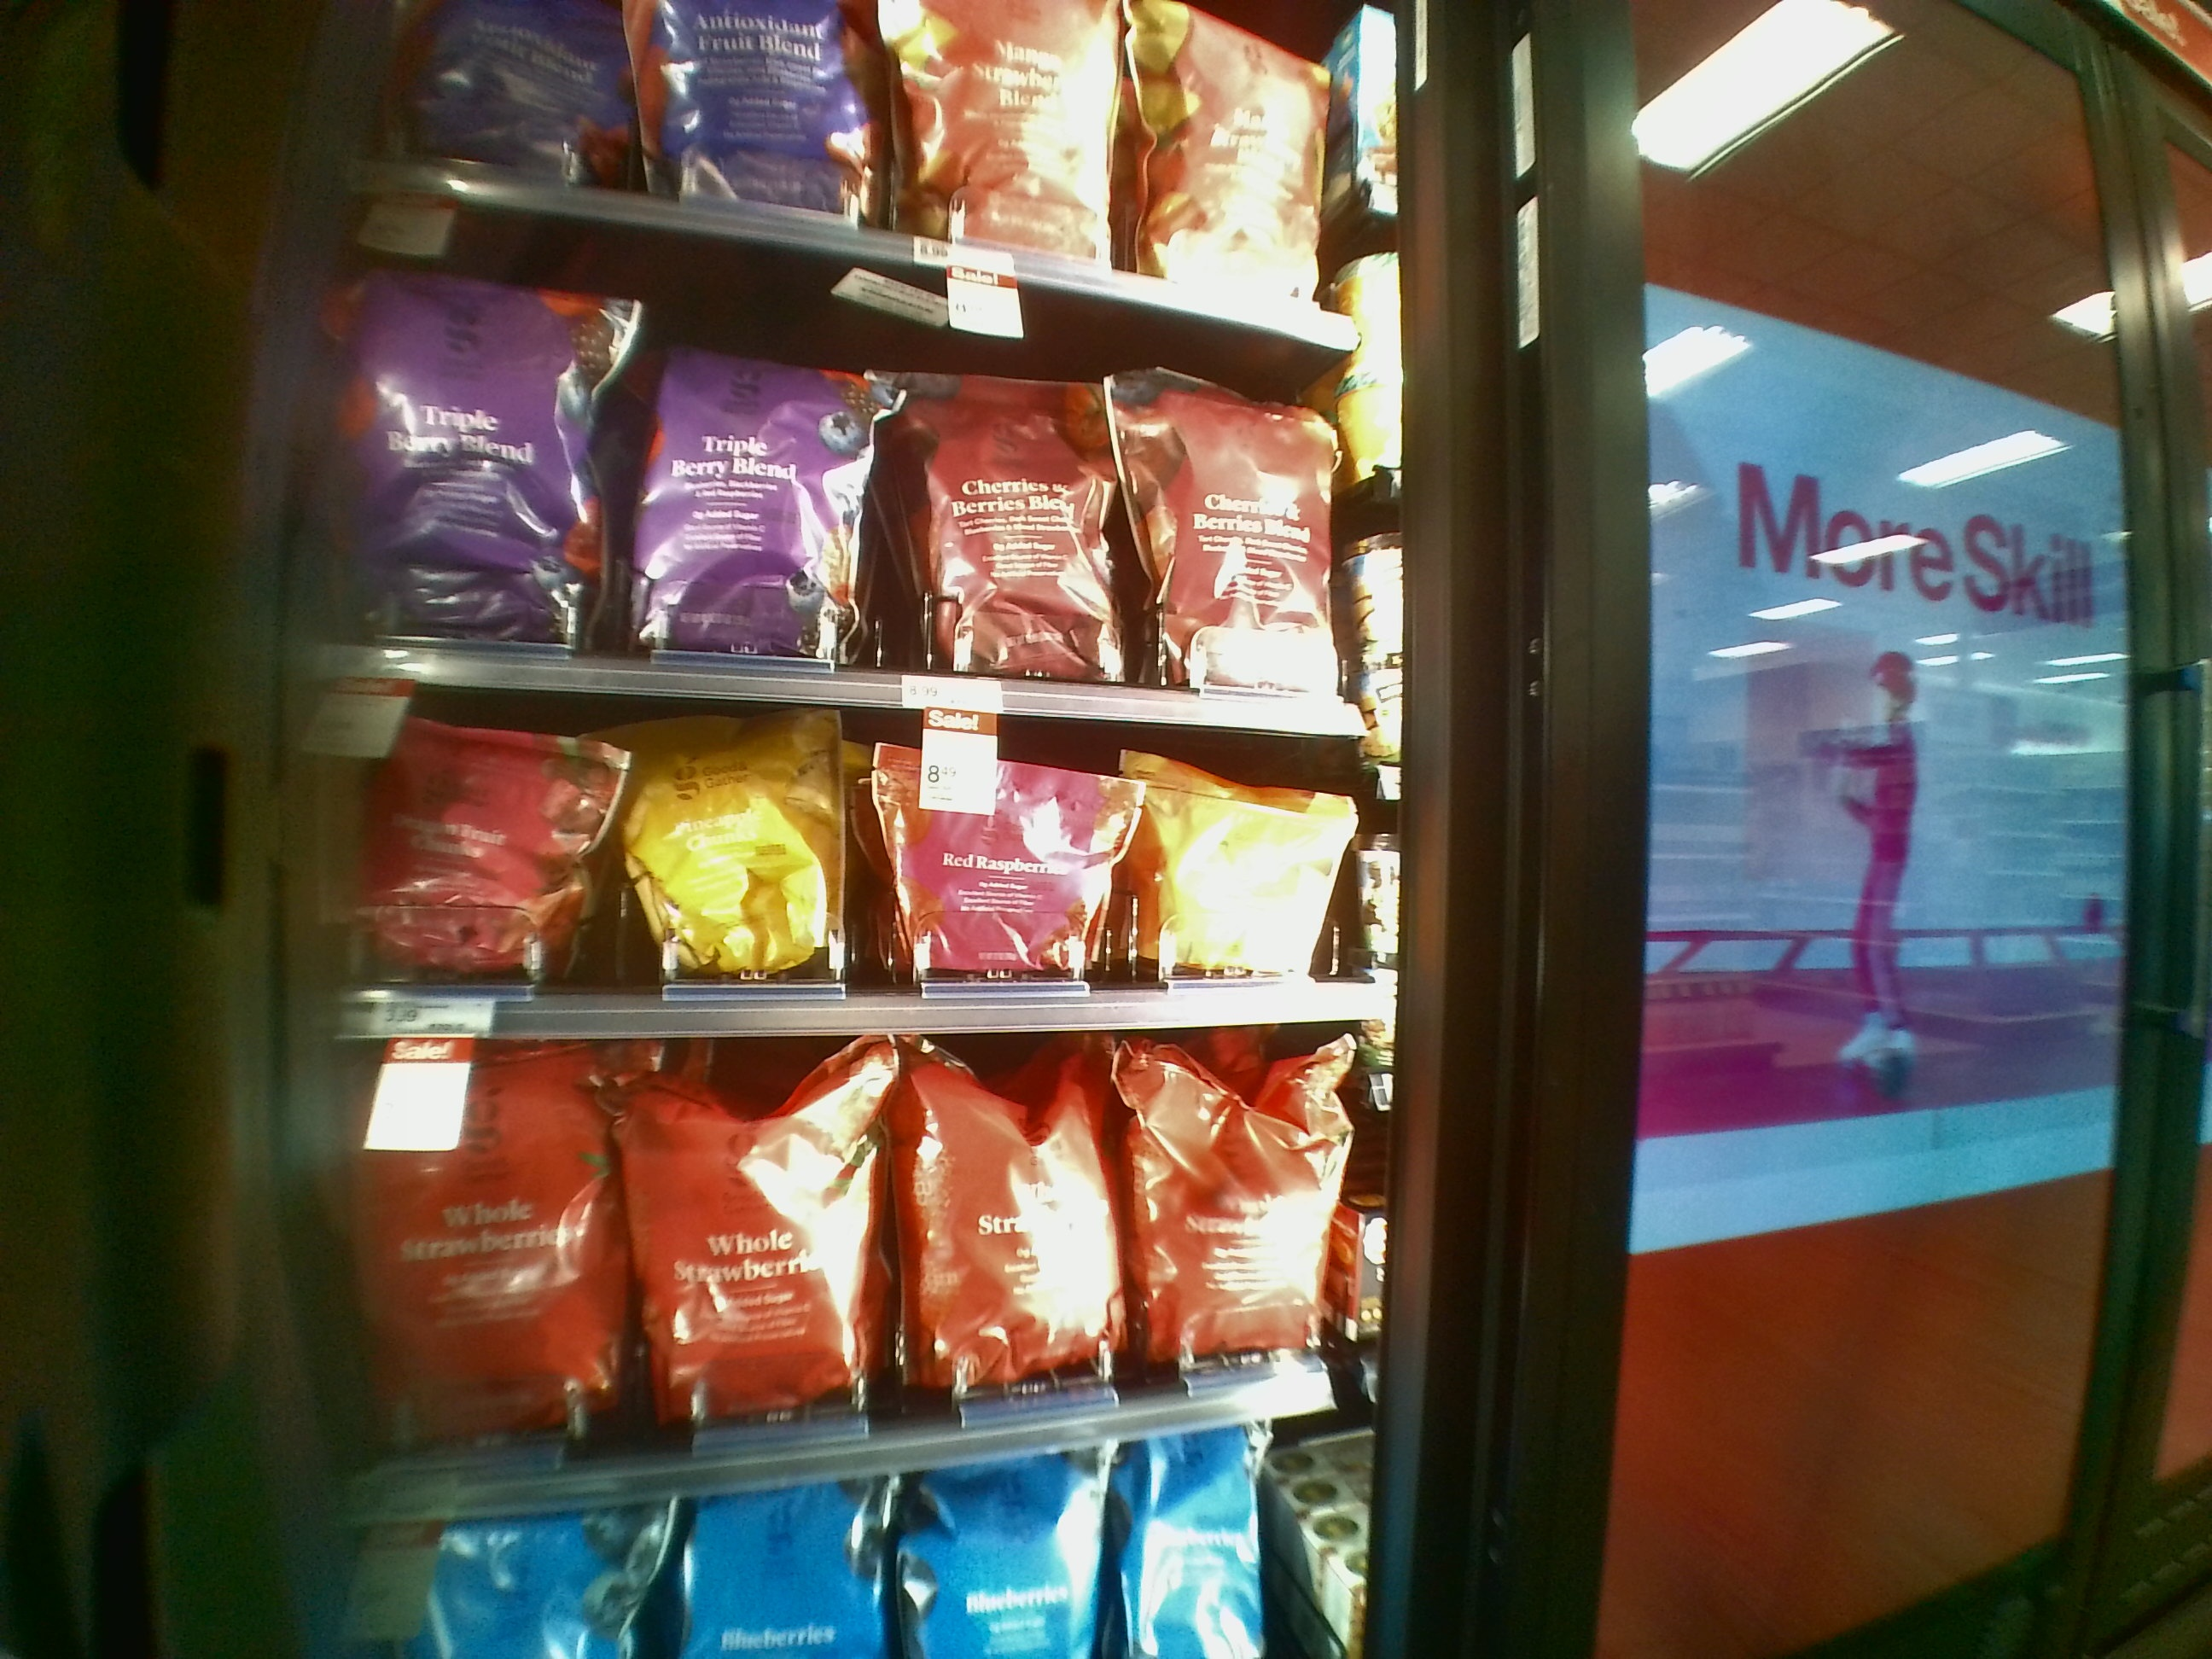shelf: (343, 1033, 1371, 1490), (314, 295, 1379, 720), (324, 699, 1360, 1037)
